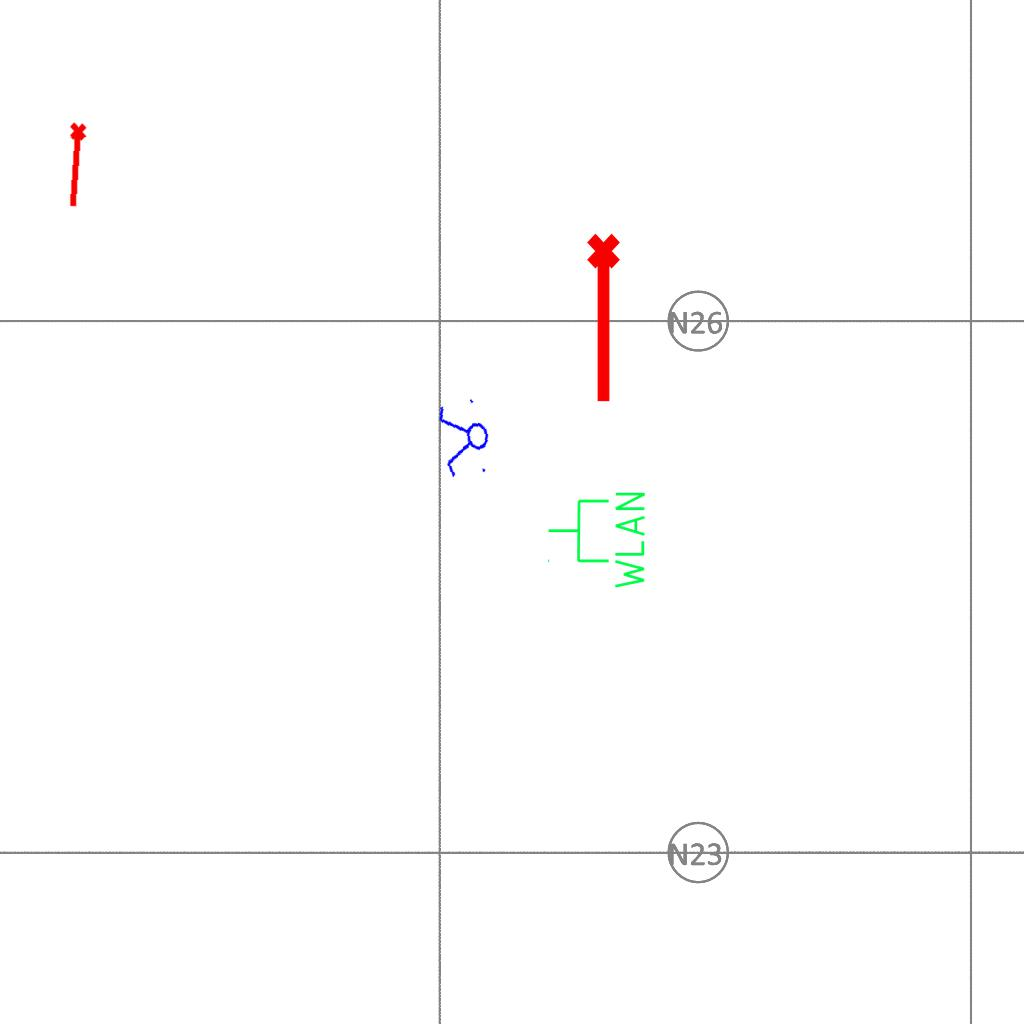ASR_Ansaugoeffnung: (583, 231, 629, 407), (62, 120, 92, 211)
Serienschalter: (434, 393, 496, 485)
WLAN: (545, 488, 649, 593)
